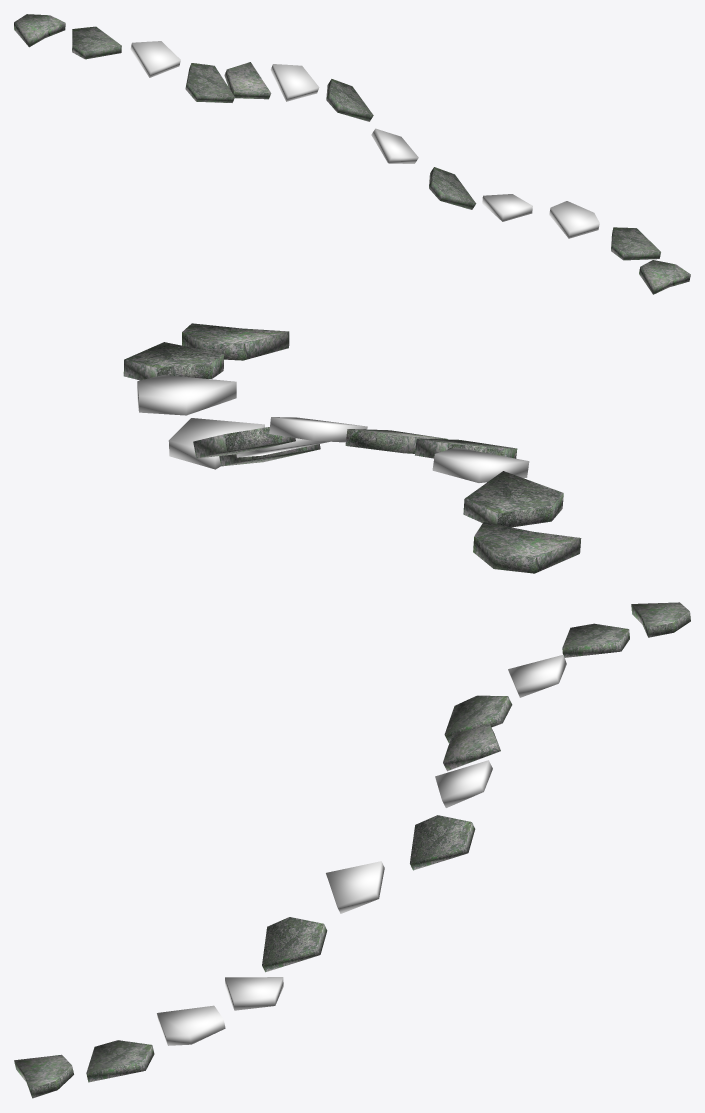
Rendered from graden_stones_c.glb.
3 renders of one model, top to bottom at view 1: azimuth 30°, elevation 25°; view 2: azimuth 150°, elevation 25°; view 3: azimuth 270°, elevation 25°, orthographic. The views are drawn at different scales.
Visible parts, largest first — view 1: rock_gray.jpg__, city_rock.jpg__; view 2: rock_gray.jpg__, city_rock.jpg__; view 3: rock_gray.jpg__, city_rock.jpg__.
Boxes of the visible parts, box(x1,y1,x2,y2) form: rock_gray.jpg__: box(14, 14, 690, 294); city_rock.jpg__: box(130, 41, 599, 238); rock_gray.jpg__: box(123, 323, 581, 573); city_rock.jpg__: box(137, 375, 529, 482); rock_gray.jpg__: box(14, 602, 690, 1098); city_rock.jpg__: box(157, 654, 566, 1045).
Size of the model in its own units: 23.12 by 9.28 by 24.6.
2 materials, 1 textured.
